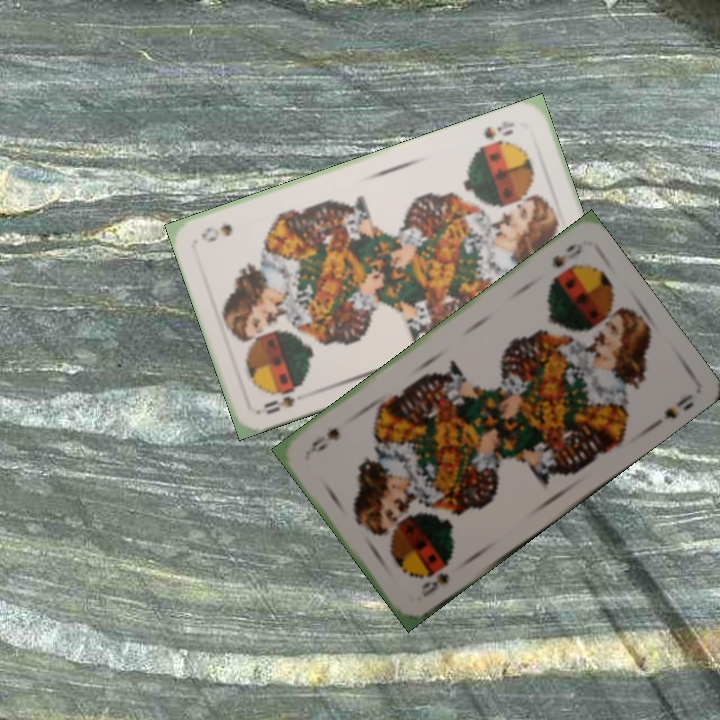SO: (255, 381, 307, 417), (474, 117, 517, 151), (417, 559, 452, 600), (547, 239, 586, 271)
